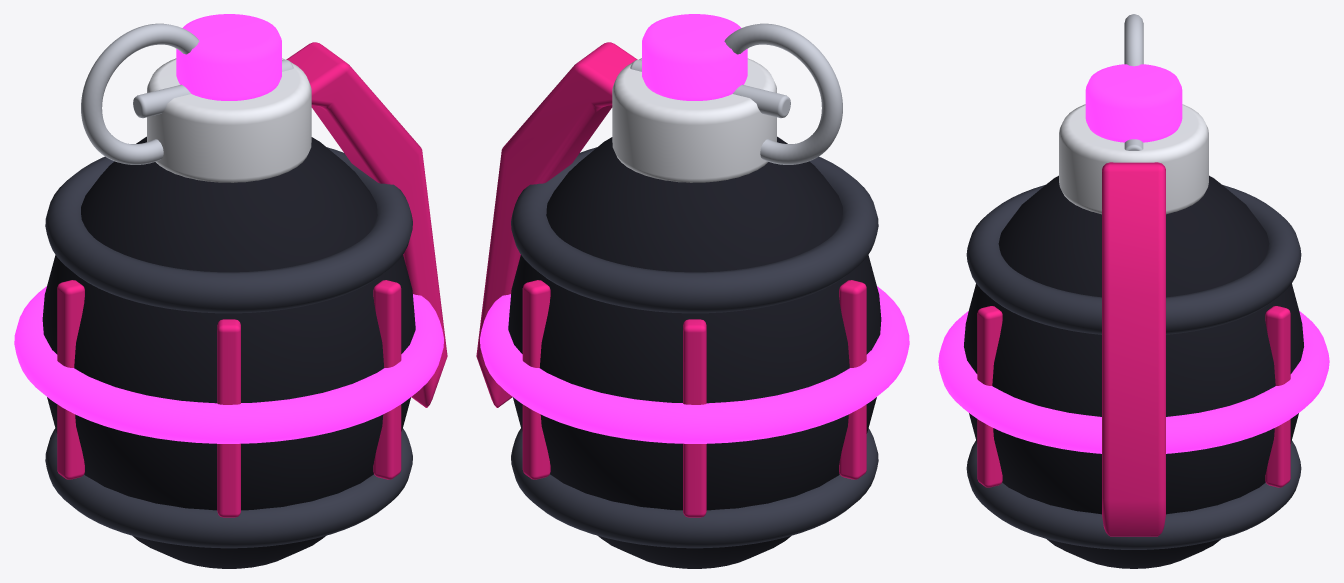
The model's file is Grenade.fbx.
3 renders of one model, left to right at view 1: azimuth 30°, elevation 25°; view 2: azimuth 150°, elevation 25°; view 3: azimuth 270°, elevation 25°, orthographic. The views are drawn at different scales.
Parts seen in each view (by area): view 1: Grenade_Pro_Plastic_Dark, Grenade_Pro_Plastic_Grey, Grenade_Pro_Glow_pink_8, Grenade_Pro_Plastic_Pink, Grenade_Pro_Plastic_White, Grenade_Pro_Metal_Silver; view 2: Grenade_Pro_Plastic_Dark, Grenade_Pro_Plastic_Grey, Grenade_Pro_Glow_pink_8, Grenade_Pro_Plastic_Pink, Grenade_Pro_Plastic_White, Grenade_Pro_Metal_Silver; view 3: Grenade_Pro_Plastic_Dark, Grenade_Pro_Plastic_Pink, Grenade_Pro_Plastic_Grey, Grenade_Pro_Glow_pink_8, Grenade_Pro_Plastic_White, Grenade_Pro_Metal_Silver.
Part boxes in pixels (left/top/right/bottom): Grenade_Pro_Plastic_Dark: left=42, top=136, right=415, bottom=568; Grenade_Pro_Plastic_Grey: left=45, top=147, right=412, bottom=548; Grenade_Pro_Glow_pink_8: left=14, top=14, right=443, bottom=443; Grenade_Pro_Plastic_Pink: left=57, top=42, right=447, bottom=517; Grenade_Pro_Plastic_White: left=147, top=58, right=311, bottom=182; Grenade_Pro_Metal_Silver: left=81, top=23, right=293, bottom=164; Grenade_Pro_Plastic_Dark: left=508, top=136, right=881, bottom=568; Grenade_Pro_Plastic_Grey: left=511, top=147, right=878, bottom=548; Grenade_Pro_Glow_pink_8: left=480, top=14, right=909, bottom=443; Grenade_Pro_Plastic_Pink: left=476, top=42, right=866, bottom=517; Grenade_Pro_Plastic_White: left=612, top=58, right=776, bottom=182; Grenade_Pro_Metal_Silver: left=630, top=23, right=842, bottom=164; Grenade_Pro_Plastic_Dark: left=964, top=175, right=1303, bottom=568; Grenade_Pro_Plastic_Pink: left=977, top=162, right=1290, bottom=536; Grenade_Pro_Plastic_Grey: left=966, top=185, right=1301, bottom=549; Grenade_Pro_Glow_pink_8: left=938, top=64, right=1329, bottom=453; Grenade_Pro_Plastic_White: left=1059, top=104, right=1208, bottom=214; Grenade_Pro_Metal_Silver: left=1124, top=14, right=1143, bottom=150.
Size of the model in its own units: 0.1989 by 0.2673 by 0.1898.
